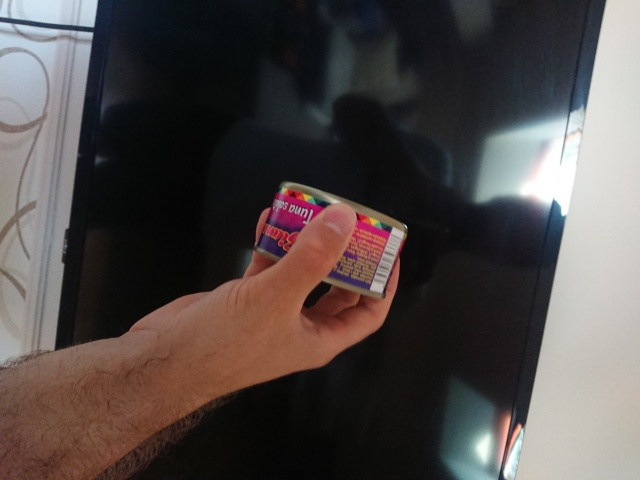Giana Tuna Salad Mexico 185g: (252, 178, 411, 304)
